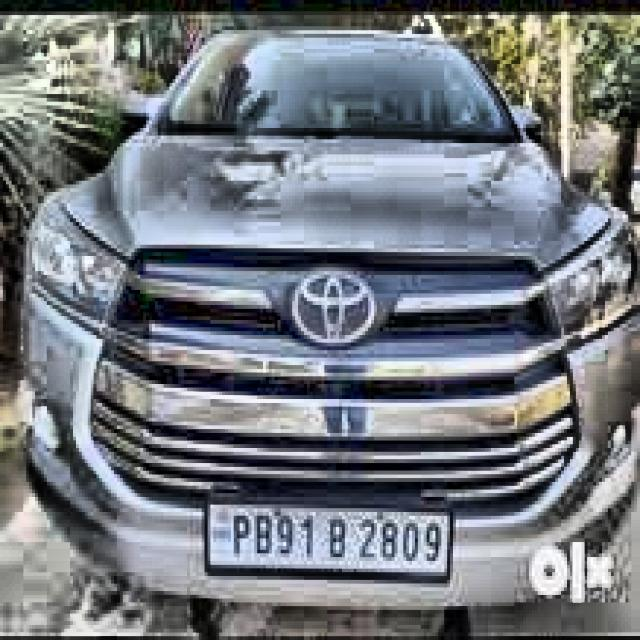light_vehicle: (20, 25, 639, 608)
